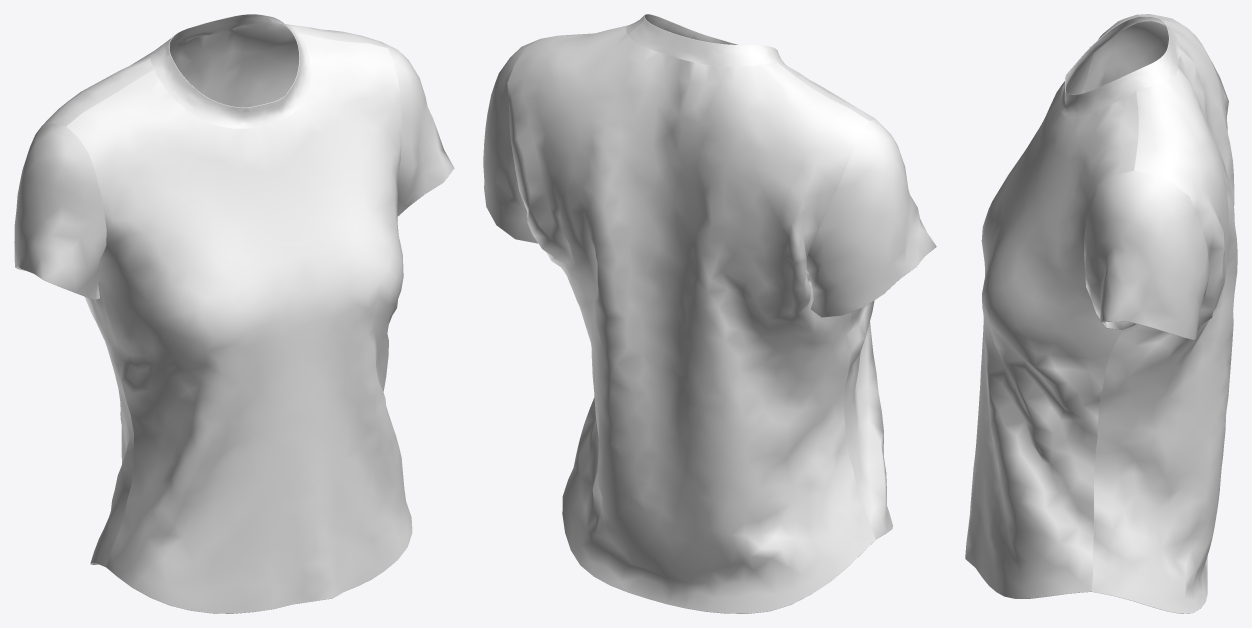
3 views of the same model, side by side, from view 1: azimuth 30°, elevation 25°; view 2: azimuth 150°, elevation 25°; view 3: azimuth 270°, elevation 25° (orthographic). The views are drawn at different scales.
Visible parts, largest first — view 1: Front_Surface_07, Left_Sleeve_Surface_04, Back_Surface_11, Back_Surface_10, Right_Sleeve_Surface_01, Collar_Surface_13, Collar_Surface_14; view 2: Back_Surface_10, Left_Sleeve_Surface_04, Front_Surface_07, Right_Sleeve_Surface_01, Collar_Surface_13, Collar_Surface_14; view 3: Front_Surface_07, Back_Surface_10, Right_Sleeve_Surface_01, Left_Sleeve_Surface_05, Collar_Surface_13, Collar_Surface_14, Front_Surface_08.
Boxes of the visible parts, <box> form: Front_Surface_07: <box>66,33,412,613</box>; Left_Sleeve_Surface_04: <box>14,123,106,299</box>; Back_Surface_11: <box>91,22,298,564</box>; Back_Surface_10: <box>42,24,386,566</box>; Right_Sleeve_Surface_01: <box>382,42,454,216</box>; Collar_Surface_13: <box>150,24,310,128</box>; Collar_Surface_14: <box>169,14,293,44</box>; Back_Surface_10: <box>507,25,875,613</box>; Left_Sleeve_Surface_04: <box>806,119,936,317</box>; Front_Surface_07: <box>561,33,892,539</box>; Right_Sleeve_Surface_01: <box>483,39,539,243</box>; Collar_Surface_13: <box>626,15,786,66</box>; Collar_Surface_14: <box>644,14,737,44</box>; Front_Surface_07: <box>965,14,1139,598</box>; Back_Surface_10: <box>1091,14,1237,613</box>; Right_Sleeve_Surface_01: <box>1084,170,1209,339</box>; Left_Sleeve_Surface_05: <box>1084,21,1168,92</box>; Collar_Surface_13: <box>1060,24,1180,116</box>; Collar_Surface_14: <box>1065,17,1165,91</box>; Front_Surface_08: <box>1066,23,1136,94</box>.
Size of the model in its own units: 43.96 by 53.75 by 24.59.
Materials: 1 (1 with a texture image).
